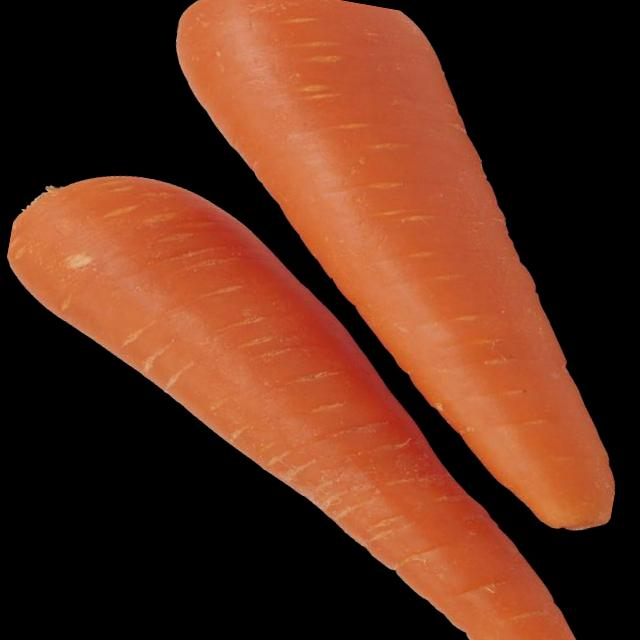carrot: (5, 174, 578, 640), (173, 0, 615, 538)
